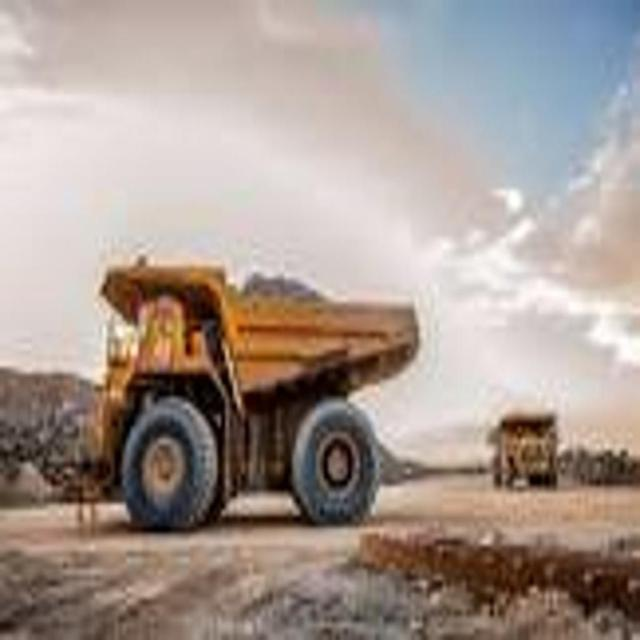dump_truck: (70, 236, 423, 536), (488, 396, 569, 498)
